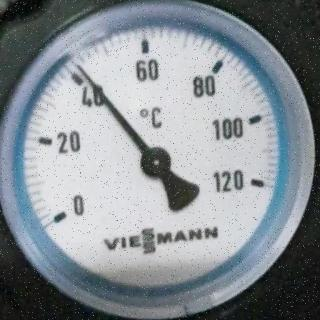gauge: (0, 0, 320, 320), (41, 192, 86, 236), (234, 165, 278, 203), (139, 145, 173, 179), (72, 60, 86, 76)
